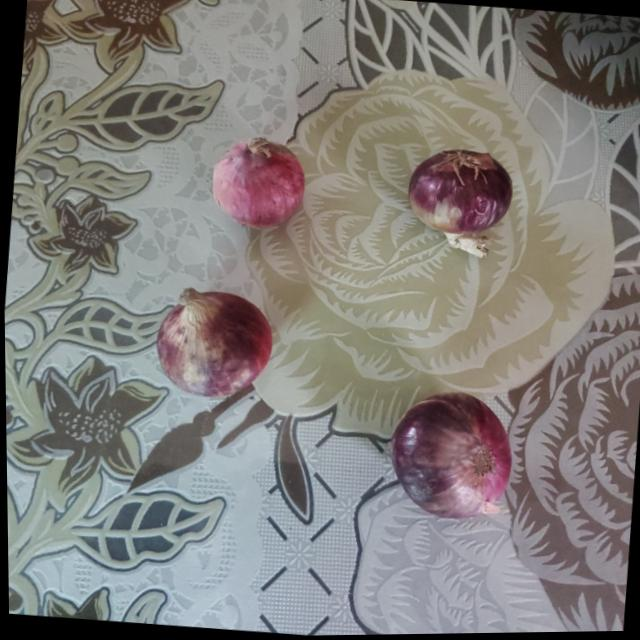onion: (381, 388, 514, 523), (150, 288, 274, 403), (403, 149, 514, 242), (210, 137, 308, 234)
